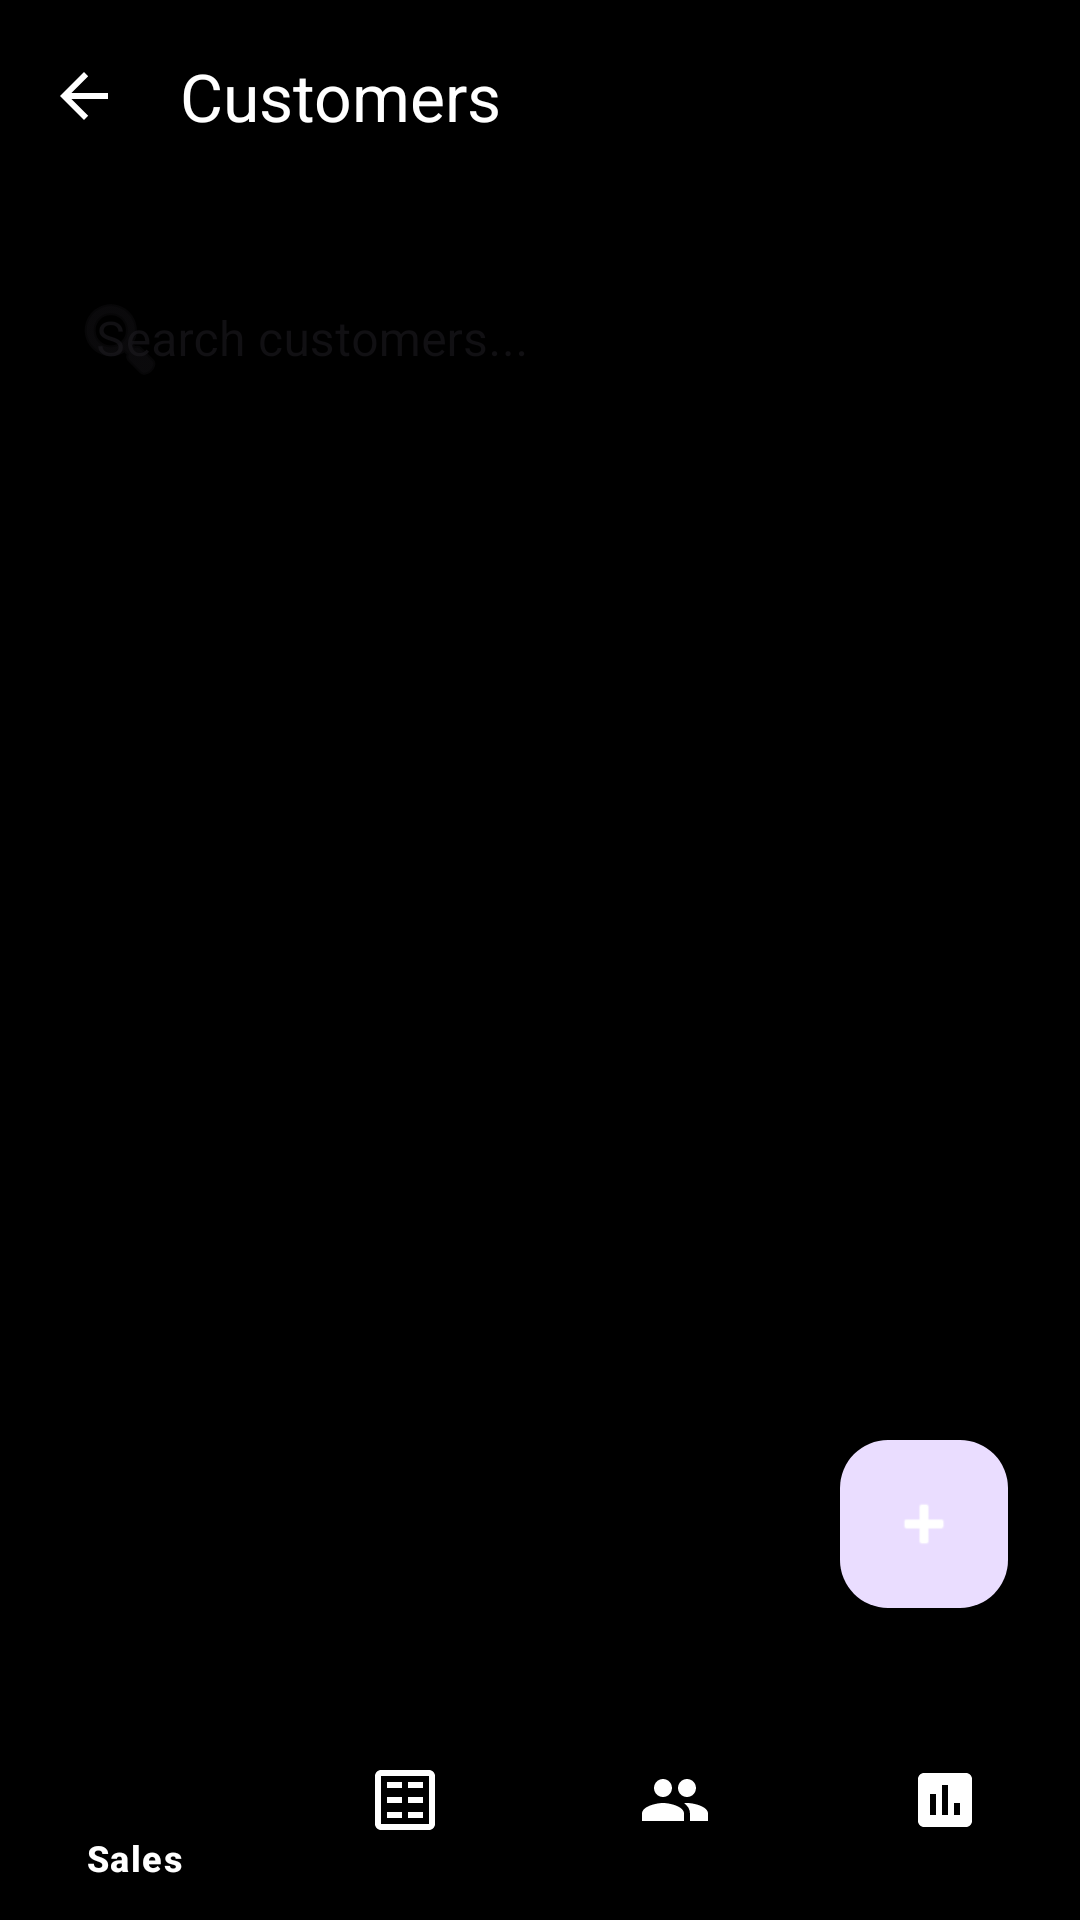

Icons on this 1080*1920 Android screen, each with its box as (x1, y1, x2, y2):
add: (840, 1440, 1008, 1608)
